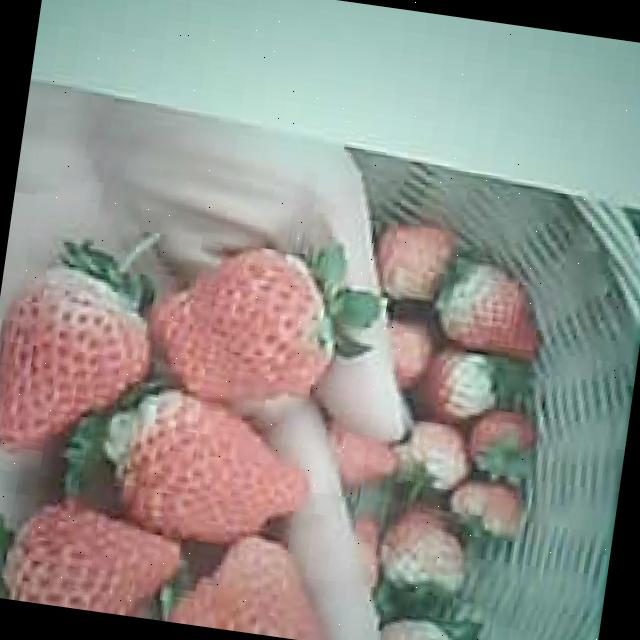strawberry: (144, 232, 342, 412), (110, 390, 313, 549), (0, 263, 157, 459), (1, 493, 177, 621), (436, 254, 556, 358)
